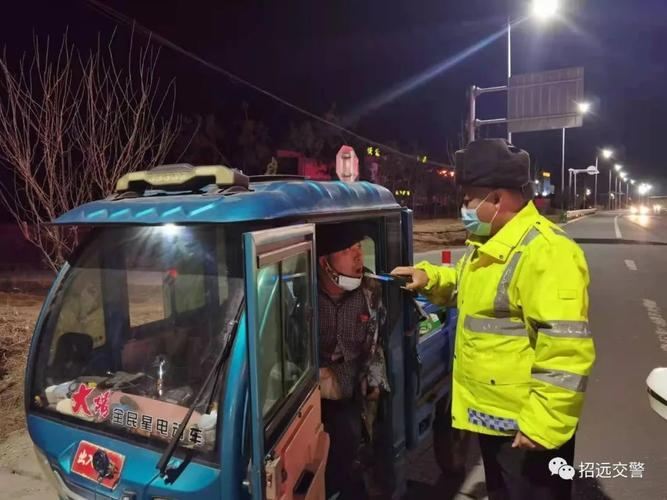driver: (269, 207, 441, 424)
only_driver: (27, 153, 428, 479)
